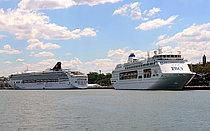Ship: (105, 46, 201, 96), (1, 61, 90, 94)
